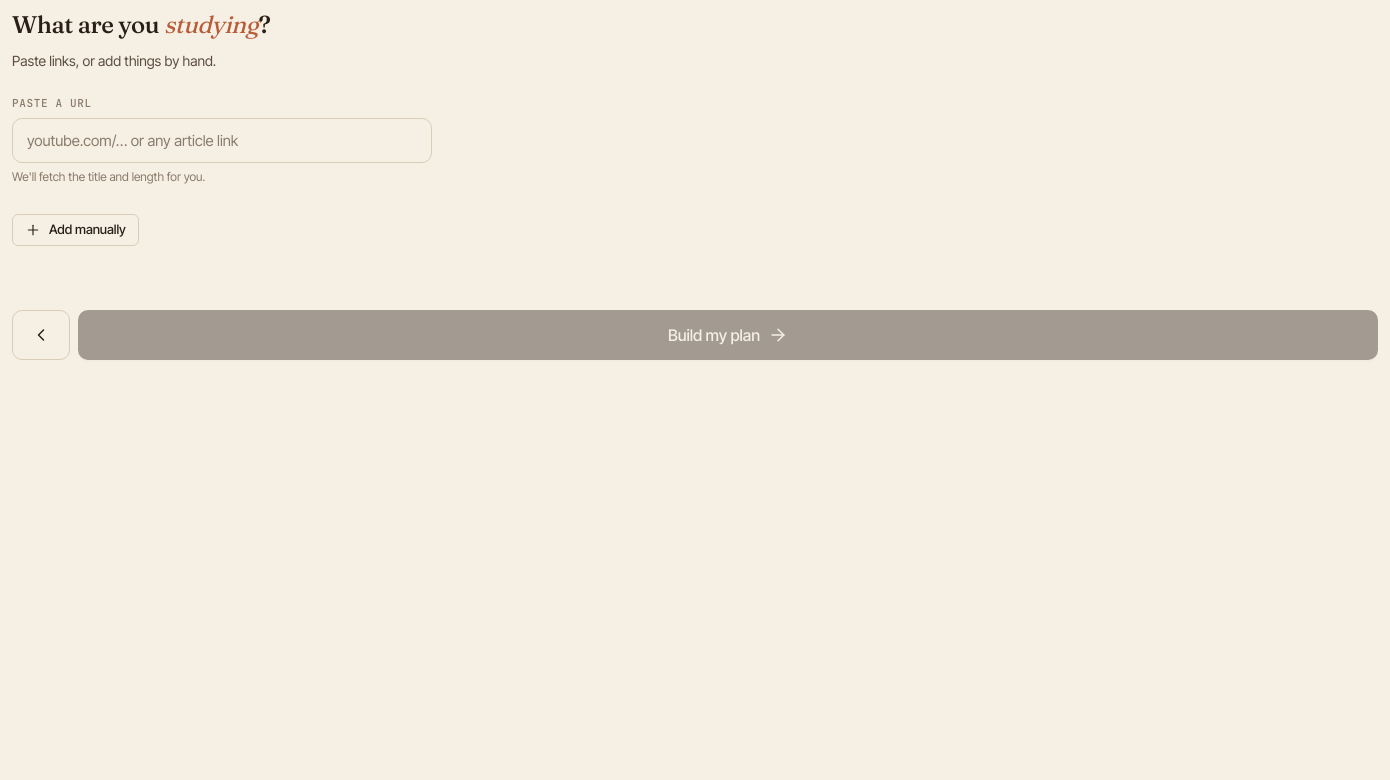
Test: Step3Materials › clicking "Add manually" adds a material row with BK icon
What coordinates should you click on to do the following:
click the button "Add manually"
I would click on:
 (75, 230)
Its box is [12, 214, 139, 246].
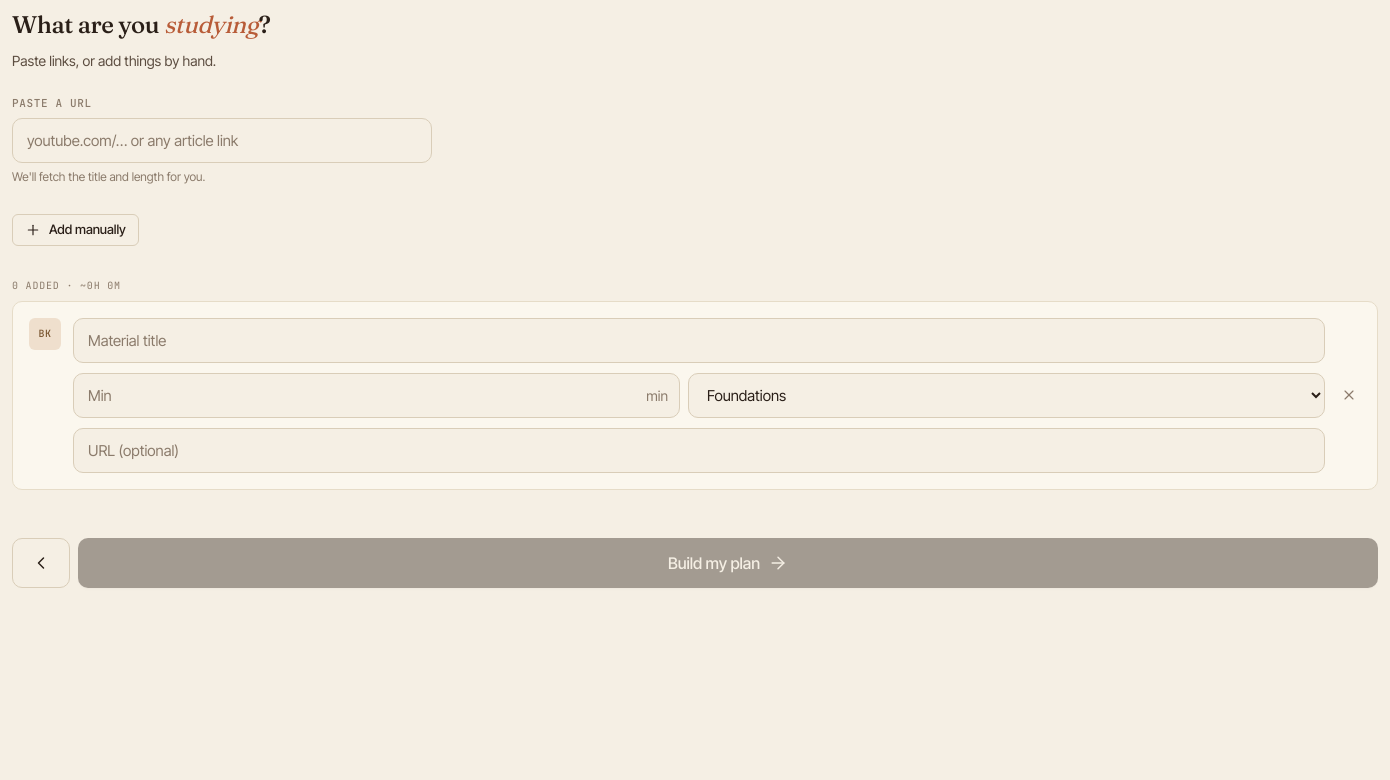
Check: the field with placeholder "Material title" is shown, box [73, 318, 1325, 363]
Check: the number field with placeholder "Min" is shown, box [73, 373, 680, 418]
Check: the icon "BK" is shown, box [29, 318, 61, 350]
